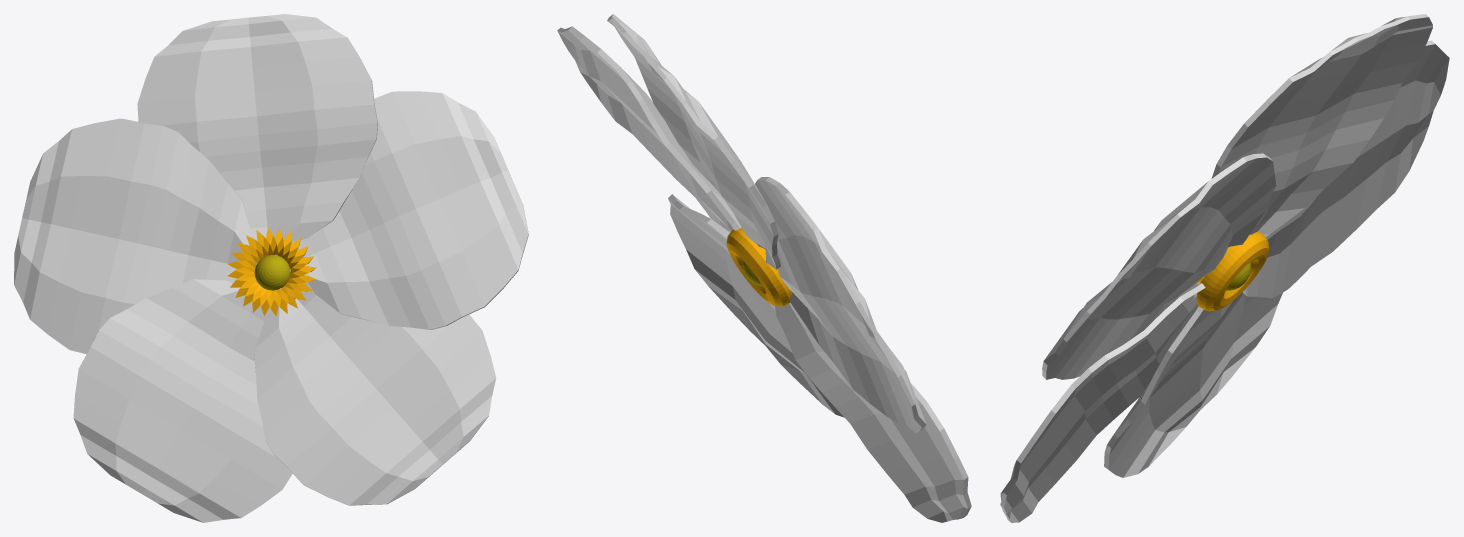
The model's file is FlowerPetals_ani.gltf.
3 renders of one model, left to right at view 1: azimuth 30°, elevation 25°; view 2: azimuth 150°, elevation 25°; view 3: azimuth 270°, elevation 25°, orthographic. The views are drawn at different scales.
Visible parts, largest first — view 1: flowerPetals; view 2: flowerPetals; view 3: flowerPetals.
Part boxes in pixels (x1,y1,x2,y2): flowerPetals: (14,14,528,522); flowerPetals: (557,14,971,522); flowerPetals: (1000,14,1449,522).
Size of the model in its own units: 6.54 by 6.63 by 5.08.
